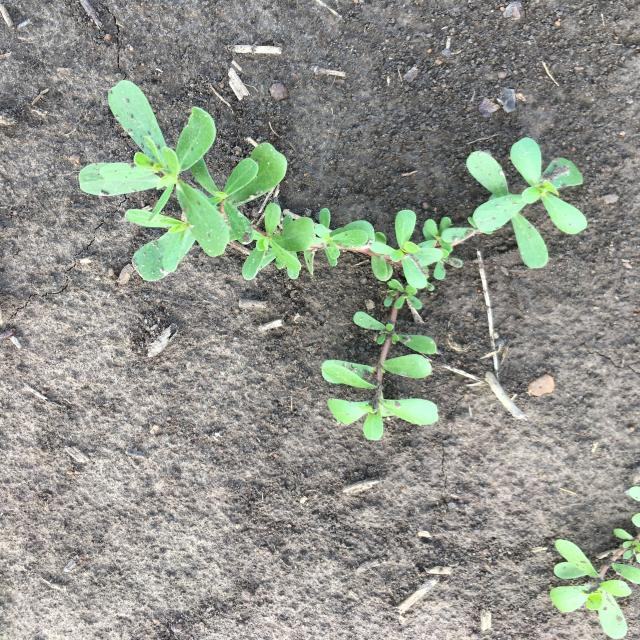Purslane: (79, 80, 587, 441), (549, 486, 640, 639)
